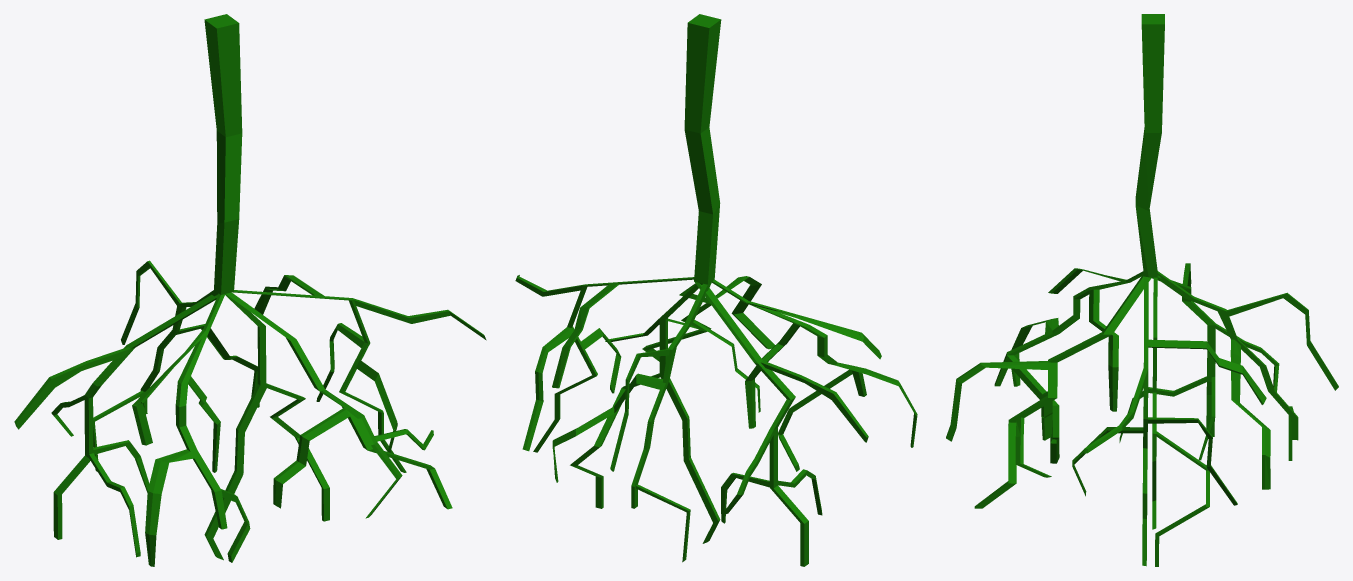
File: treev.obj
3 renders of one model, left to right at view 1: azimuth 30°, elevation 25°; view 2: azimuth 150°, elevation 25°; view 3: azimuth 270°, elevation 25°, orthographic. The views are drawn at different scales.
Parts seen in each view (by area): view 1: Cube.1; view 2: Cube.1; view 3: Cube.1.
Part boxes in pixels (x1,y1,x2,y2): Cube.1: [14, 14, 486, 566]; Cube.1: [515, 14, 917, 566]; Cube.1: [946, 14, 1338, 566].
Size of the model in its own units: 392 by 485 by 338.
